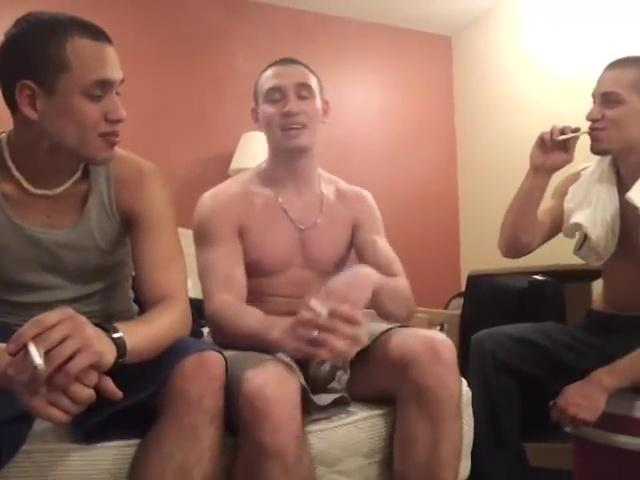cigarette: (299, 294, 337, 320), (23, 338, 48, 372), (554, 127, 593, 142)
